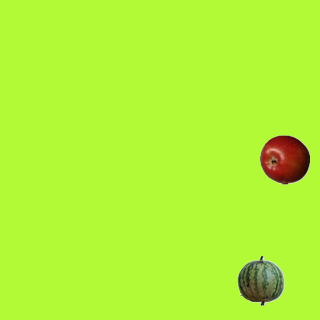Apple Braeburn: (259, 134, 309, 184)
Watermelon: (235, 255, 285, 305)
